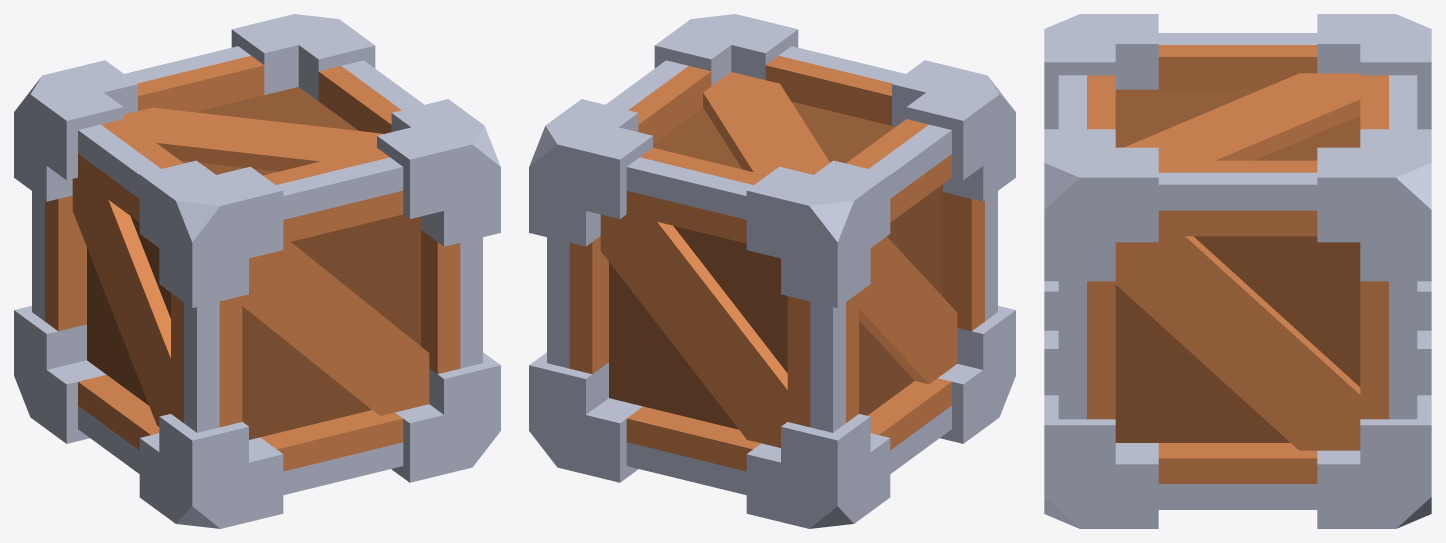
File: crateStrong.dae
The picture shows the model from 3 angles, left to right: view 1: azimuth 30°, elevation 25°; view 2: azimuth 150°, elevation 25°; view 3: azimuth 270°, elevation 25°; orthographic projection. The views are drawn at different scales.
Visible parts, largest first — view 1: crateStrong; view 2: crateStrong; view 3: crateStrong.
Part boxes in pixels (box(x1,y1,x2,y2)): crateStrong: box(14, 14, 500, 528); crateStrong: box(529, 14, 1015, 528); crateStrong: box(1044, 14, 1431, 528).
Bounding box in the file's own units: 0.54 × 0.54 × 0.54.
